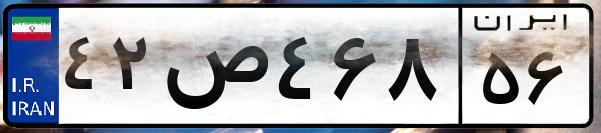2: (110, 28, 158, 98)
4: (270, 28, 330, 110), (57, 26, 110, 100)
5: (475, 38, 525, 113)
6: (330, 28, 385, 110), (525, 38, 570, 115)
8: (385, 28, 445, 110)
ص: (158, 20, 270, 120)
